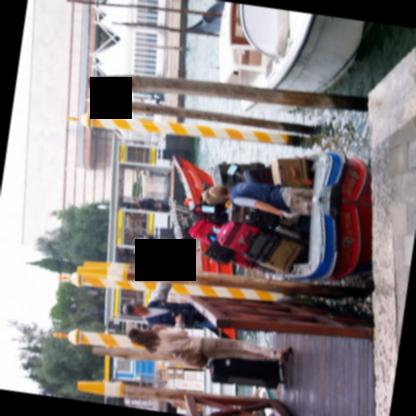backpack: (192, 198, 212, 217)
handbag: (154, 350, 207, 366)
suitcase: (208, 357, 280, 388), (258, 237, 304, 272), (213, 220, 261, 252), (240, 230, 280, 264), (268, 155, 311, 186), (203, 239, 237, 265), (189, 218, 221, 243), (212, 162, 242, 186), (228, 198, 253, 223), (243, 166, 274, 184), (273, 223, 303, 240), (212, 203, 229, 223)
